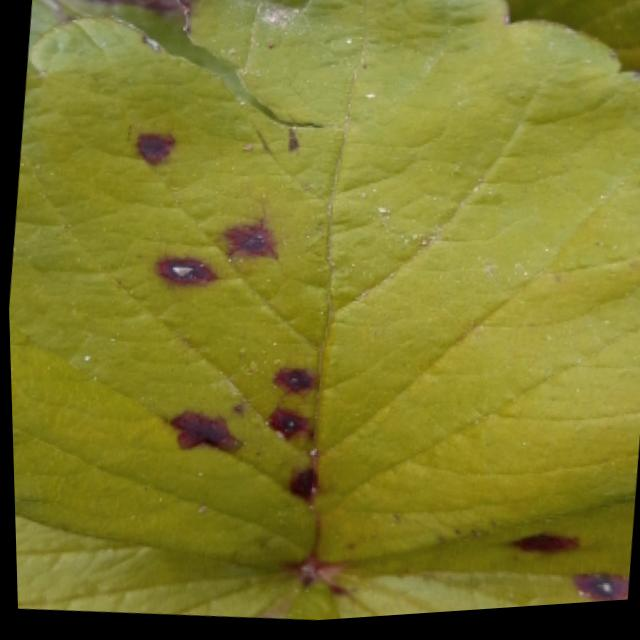Leaf Spot: (7, 0, 640, 575), (311, 500, 632, 623), (12, 515, 333, 624)
